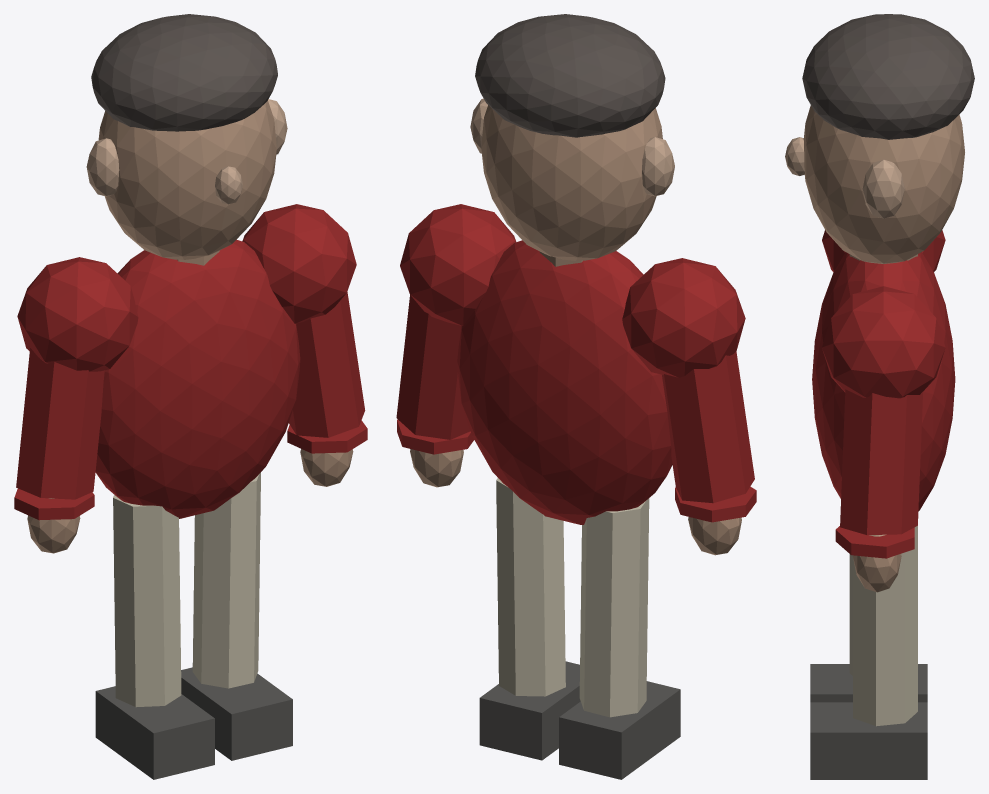
Rendered from ped_4.glb.
3 views of the same model, side by side, from view 1: azimuth 30°, elevation 25°; view 2: azimuth 150°, elevation 25°; view 3: azimuth 270°, elevation 25° (orthographic).
Parts seen in each view (by area): view 1: body, armR, legR, armL, legL; view 2: body, armR, legR, armL, legL; view 3: body, armL, legL, legR, armR.
Part boxes in pixels (<box>): body: <box>86,14,300,518</box>; armR: <box>14,257,138,553</box>; legR: <box>95,494,214,779</box>; armL: <box>242,204,367,486</box>; legL: <box>181,472,292,760</box>; body: <box>457,14,674,524</box>; armR: <box>622,258,756,555</box>; legR: <box>559,498,680,779</box>; armL: <box>396,204,516,487</box>; legL: <box>479,478,580,760</box>; body: <box>785,14,974,511</box>; armL: <box>822,286,945,592</box>; legL: <box>810,525,927,779</box>; legR: <box>810,554,927,702</box>; armR: <box>822,230,945,271</box>.
Bounding box in the file's own units: 0.8703 × 1.72 × 0.4127.
